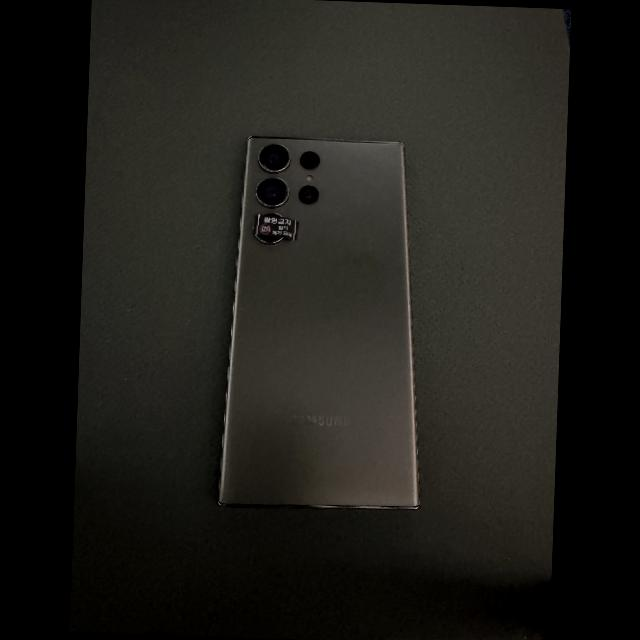lens: (256, 178, 288, 207), (258, 144, 289, 171), (299, 151, 319, 169), (257, 236, 282, 244)
phone: (217, 135, 419, 508)
sticker: (253, 213, 298, 241)
